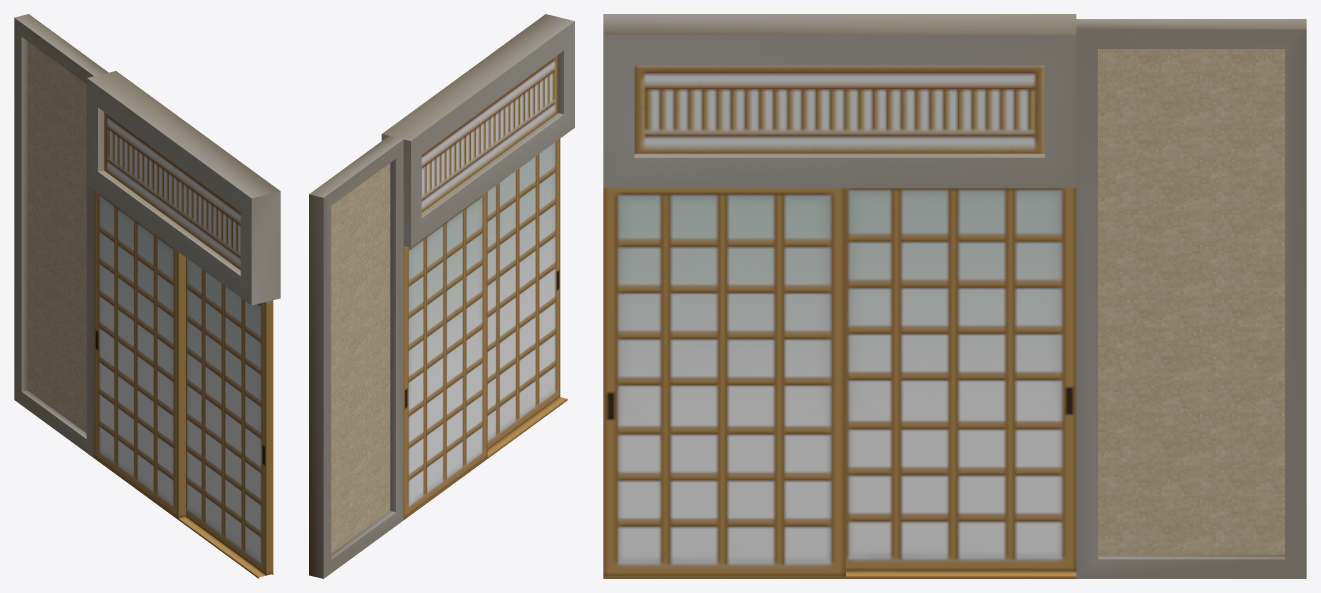
File: syoji_3jyo_01.fbx
The picture shows the model from 3 angles, left to right: view 1: azimuth 30°, elevation 25°; view 2: azimuth 150°, elevation 25°; view 3: azimuth 270°, elevation 25°; orthographic projection. The views are drawn at different scales.
Parts seen in each view (by area): view 1: ranma01, door02, door01; view 2: ranma01, door02, door01; view 3: ranma01, door01, door02.
Boxes of the visible parts, box(x1,y1,x2,y2) form: ranma01: box(14, 14, 280, 578); door02: box(94, 190, 185, 518); door01: box(186, 258, 273, 575); ranma01: box(309, 14, 574, 578); door02: box(403, 192, 487, 518); door01: box(487, 139, 560, 449); ranma01: box(603, 14, 1306, 578); door01: box(603, 188, 845, 576); door02: box(846, 188, 1076, 571).
Size of the model in its own units: 40 by 500 by 580.
